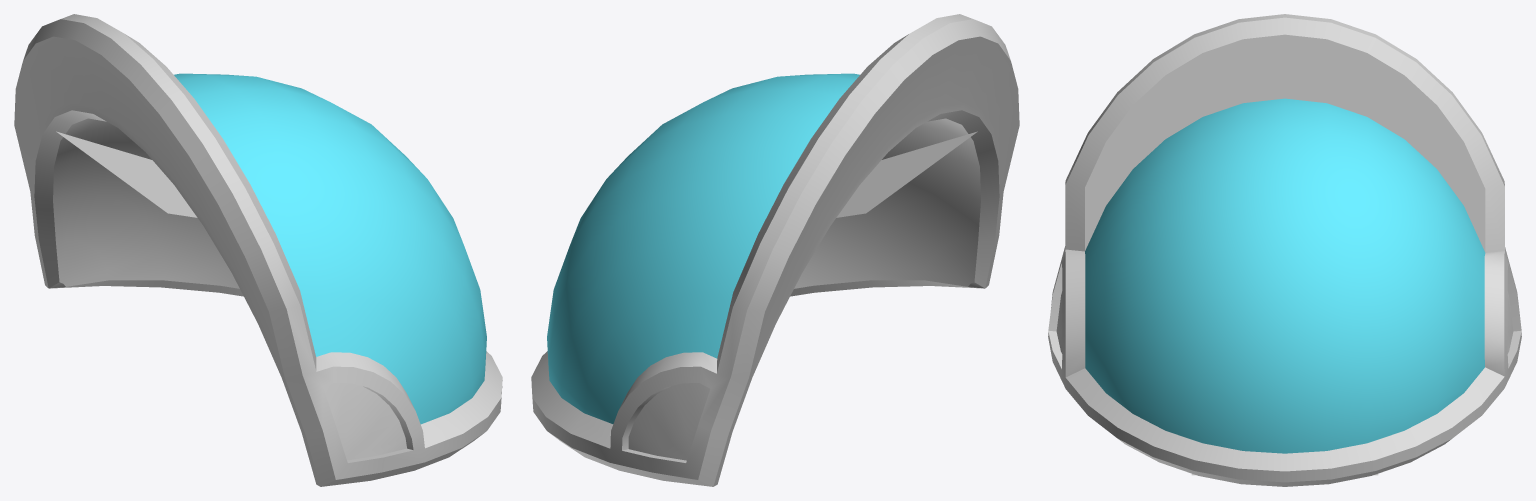
The model's file is Mod_Pauldron_L_Yuri1.fbx.
3 views of the same model, side by side, from view 1: azimuth 30°, elevation 25°; view 2: azimuth 150°, elevation 25°; view 3: azimuth 270°, elevation 25° (orthographic). The views are drawn at different scales.
Parts seen in each view (by area): view 1: Mod_Pauldron_L_Yuri1; view 2: Mod_Pauldron_L_Yuri1; view 3: Mod_Pauldron_L_Yuri1.
Part boxes in pixels (x1,y1,x2,y2): Mod_Pauldron_L_Yuri1: [14, 14, 502, 486]; Mod_Pauldron_L_Yuri1: [531, 14, 1019, 486]; Mod_Pauldron_L_Yuri1: [1048, 14, 1521, 486].
Size of the model in its own units: 269 by 292 by 366.
